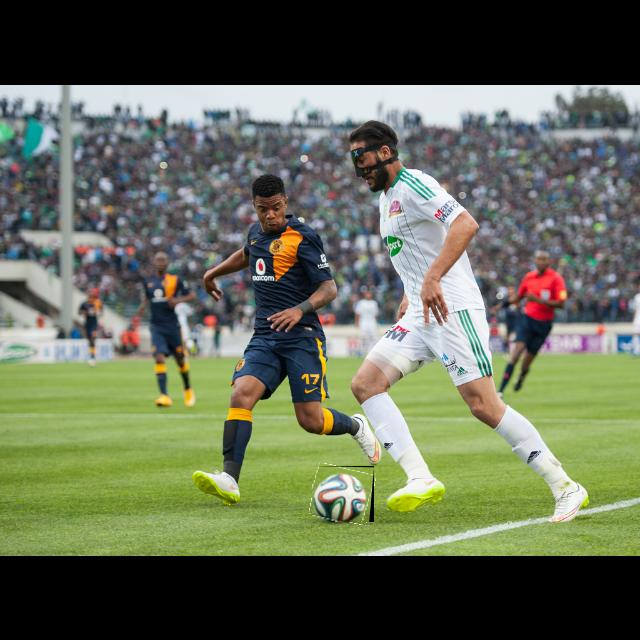Football: (312, 466, 374, 522)
